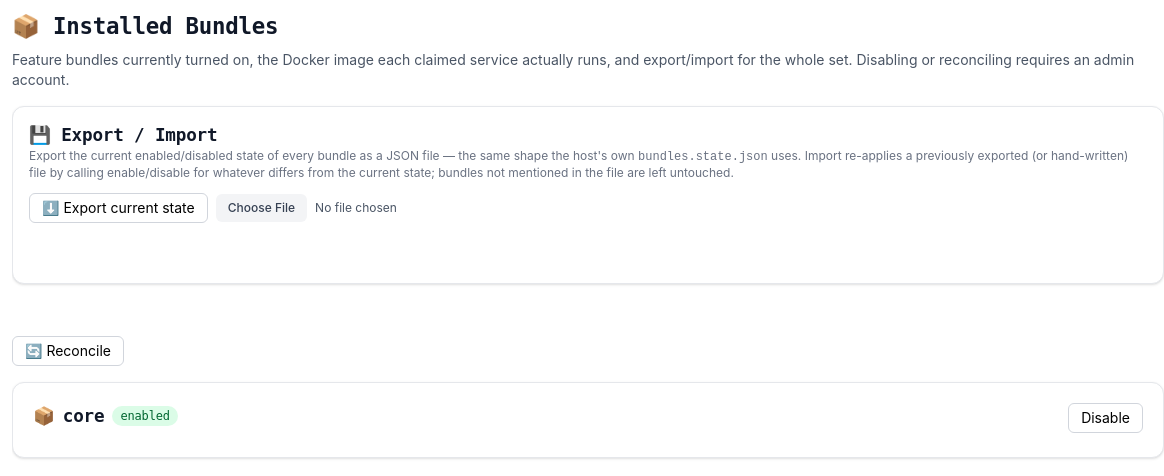
Test: InstalledBundlesPage › reconciles successfully and reports the outcome, then reloads
What coordinates should you click on to do the following:
click the button "🔄 Reconcile"
I would click on:
 (68, 351)
Its box is [12,336,124,366].
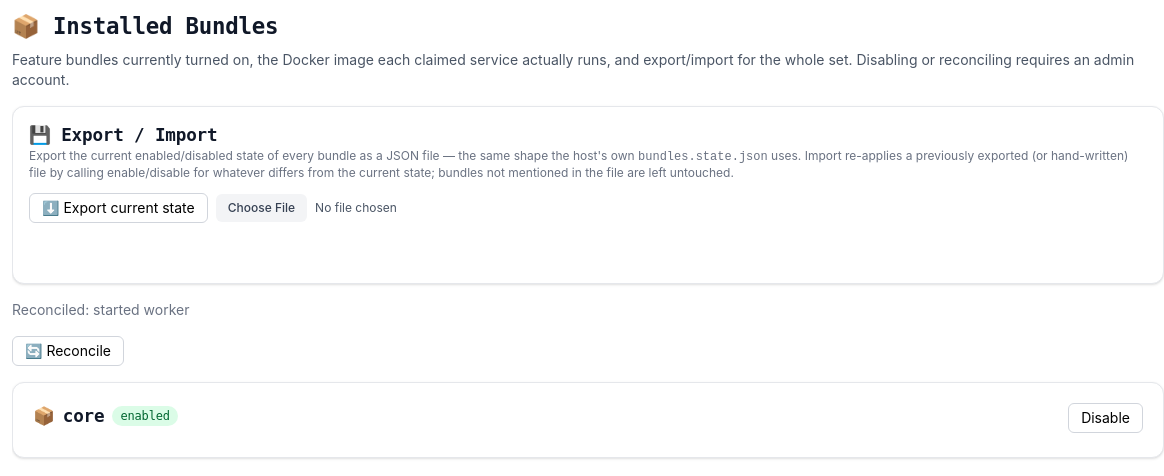
Expected: the text "Reconciled: started worker" is shown, [12,301,190,318]
